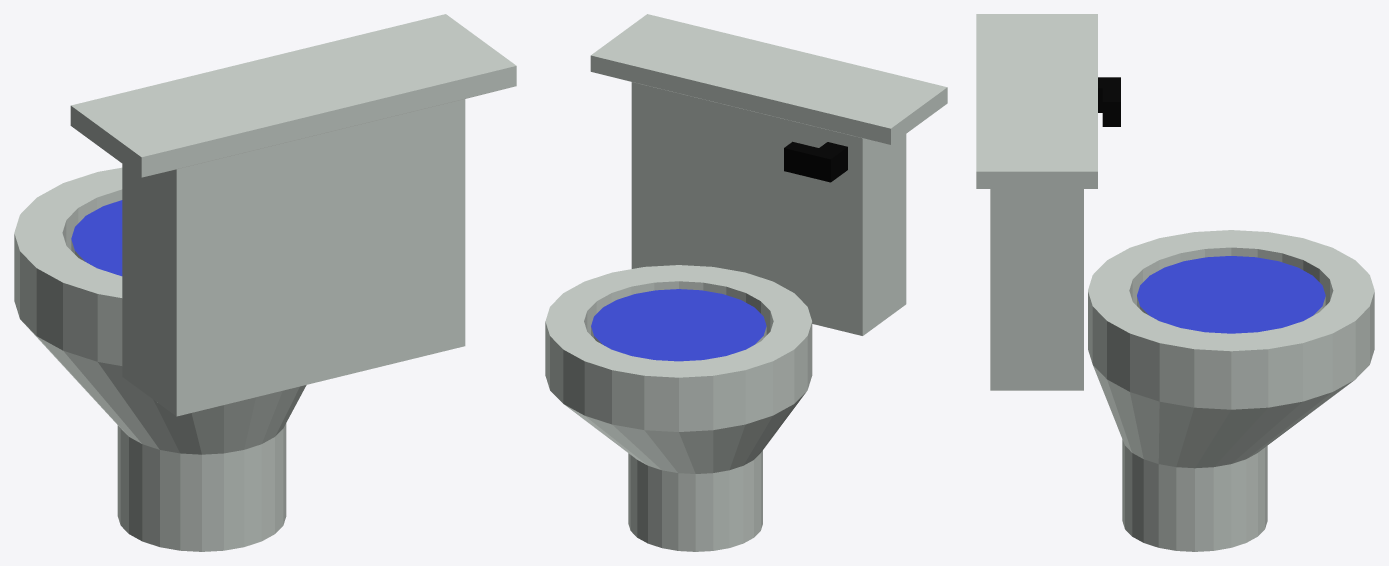
Rendered from Toilet.fbx.
The picture shows the model from 3 angles, left to right: view 1: azimuth 30°, elevation 25°; view 2: azimuth 150°, elevation 25°; view 3: azimuth 270°, elevation 25°; orthographic projection. The views are drawn at different scales.
Parts seen in each view (by area): view 1: Toilet; view 2: Toilet; view 3: Toilet.
Boxes of the visible parts, x1,y1,x2,y2 form: Toilet: (14, 14, 516, 551); Toilet: (545, 14, 947, 551); Toilet: (976, 14, 1374, 551).
Size of the model in its own units: 260 by 330 by 278.
